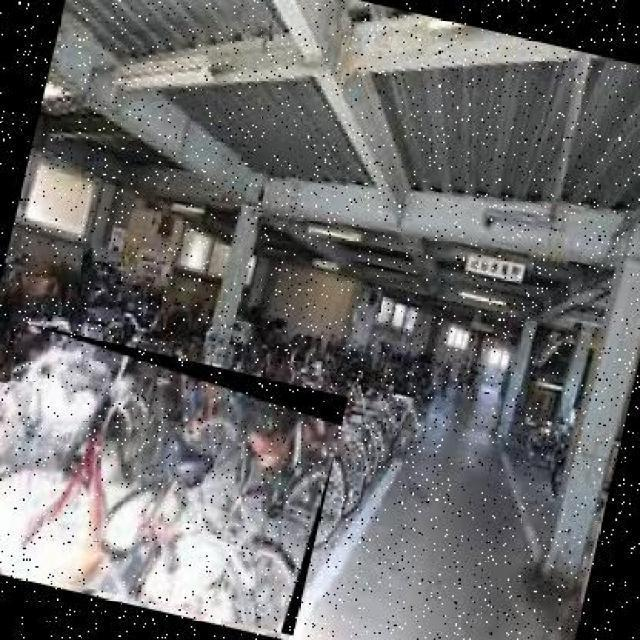bicycle: (1, 324, 353, 639)
